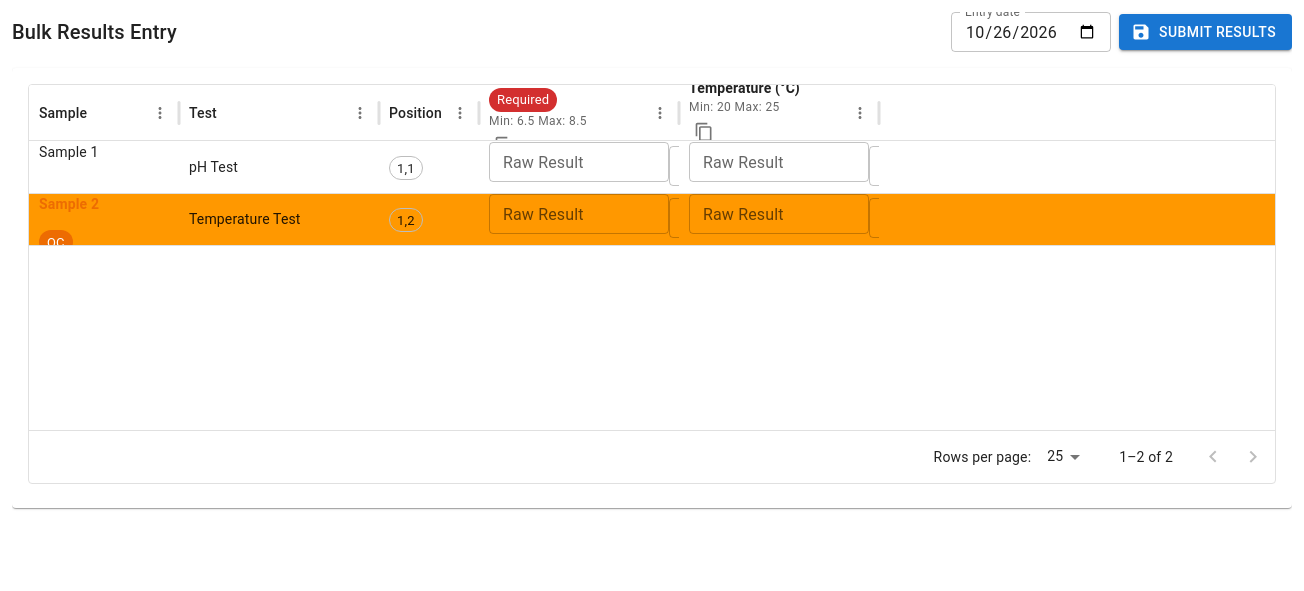
Test: BatchResultsEntryTable › caps entry date at the browser today and refuses a typed later day
This screenshot has width=1304, height=591.
Type "2099-01-01" into the date field labelled "Entry date" at (1031, 32), box [951,12,1111,52]
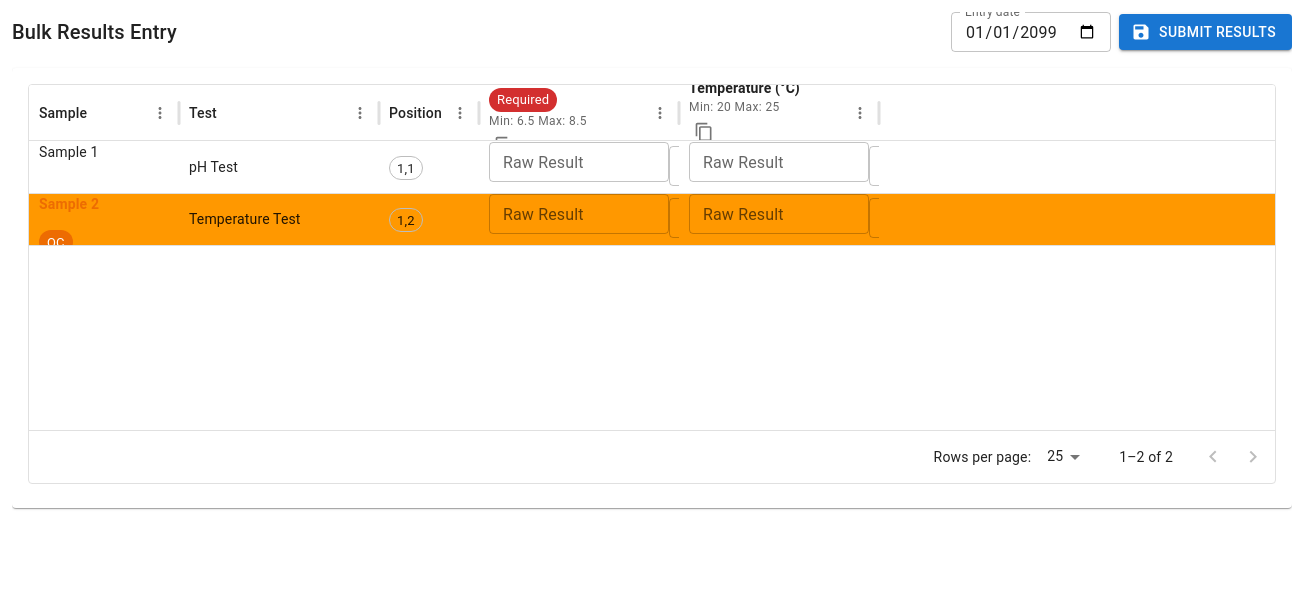
Click the button "Submit Results" at (1206, 32), box [1119,14,1292,50]
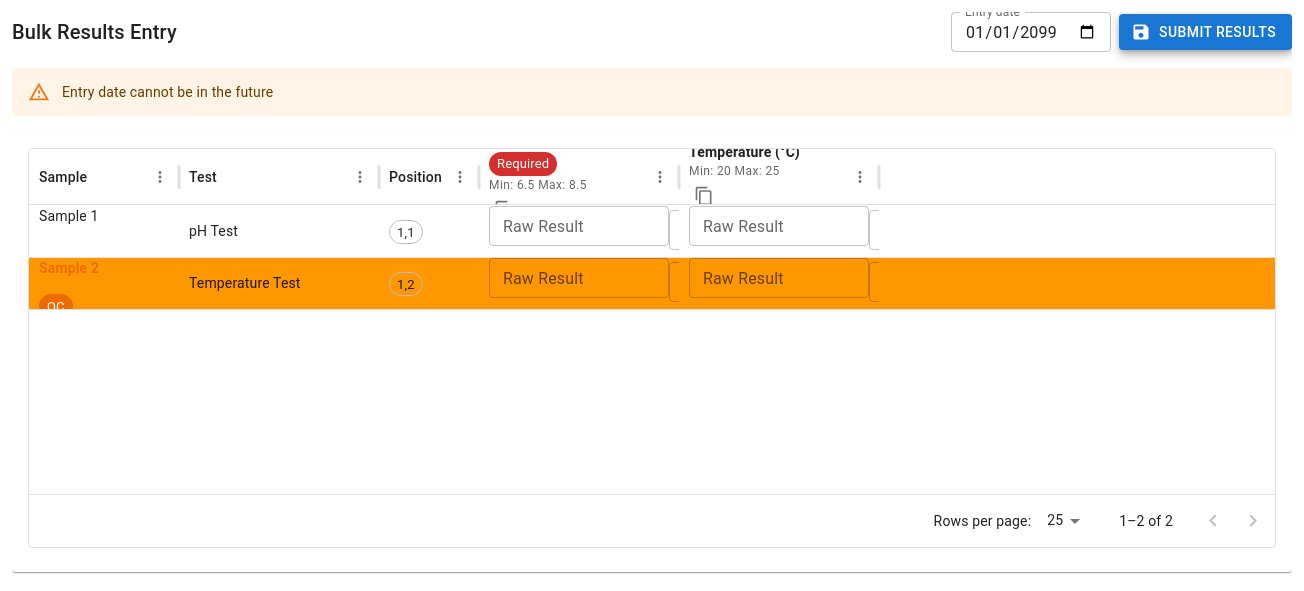
Expected: the text "Entry date cannot be in the future" is shown once, [62,84,273,100]
